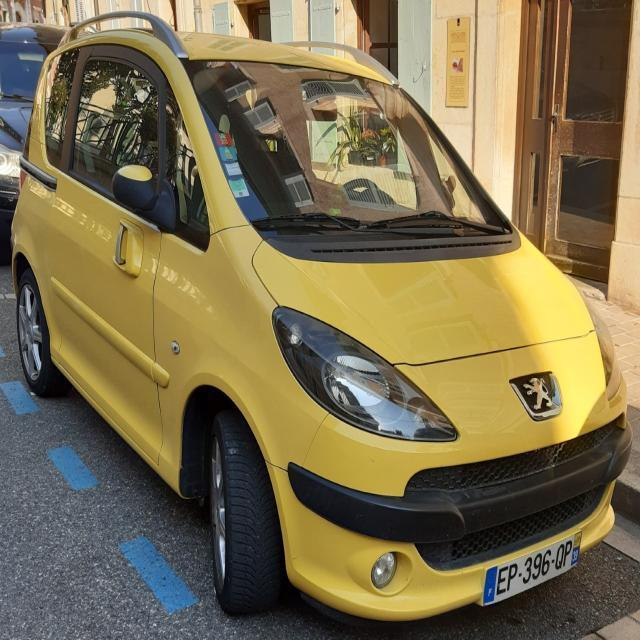EU: (482, 528, 585, 605)
France: (480, 564, 505, 602)
